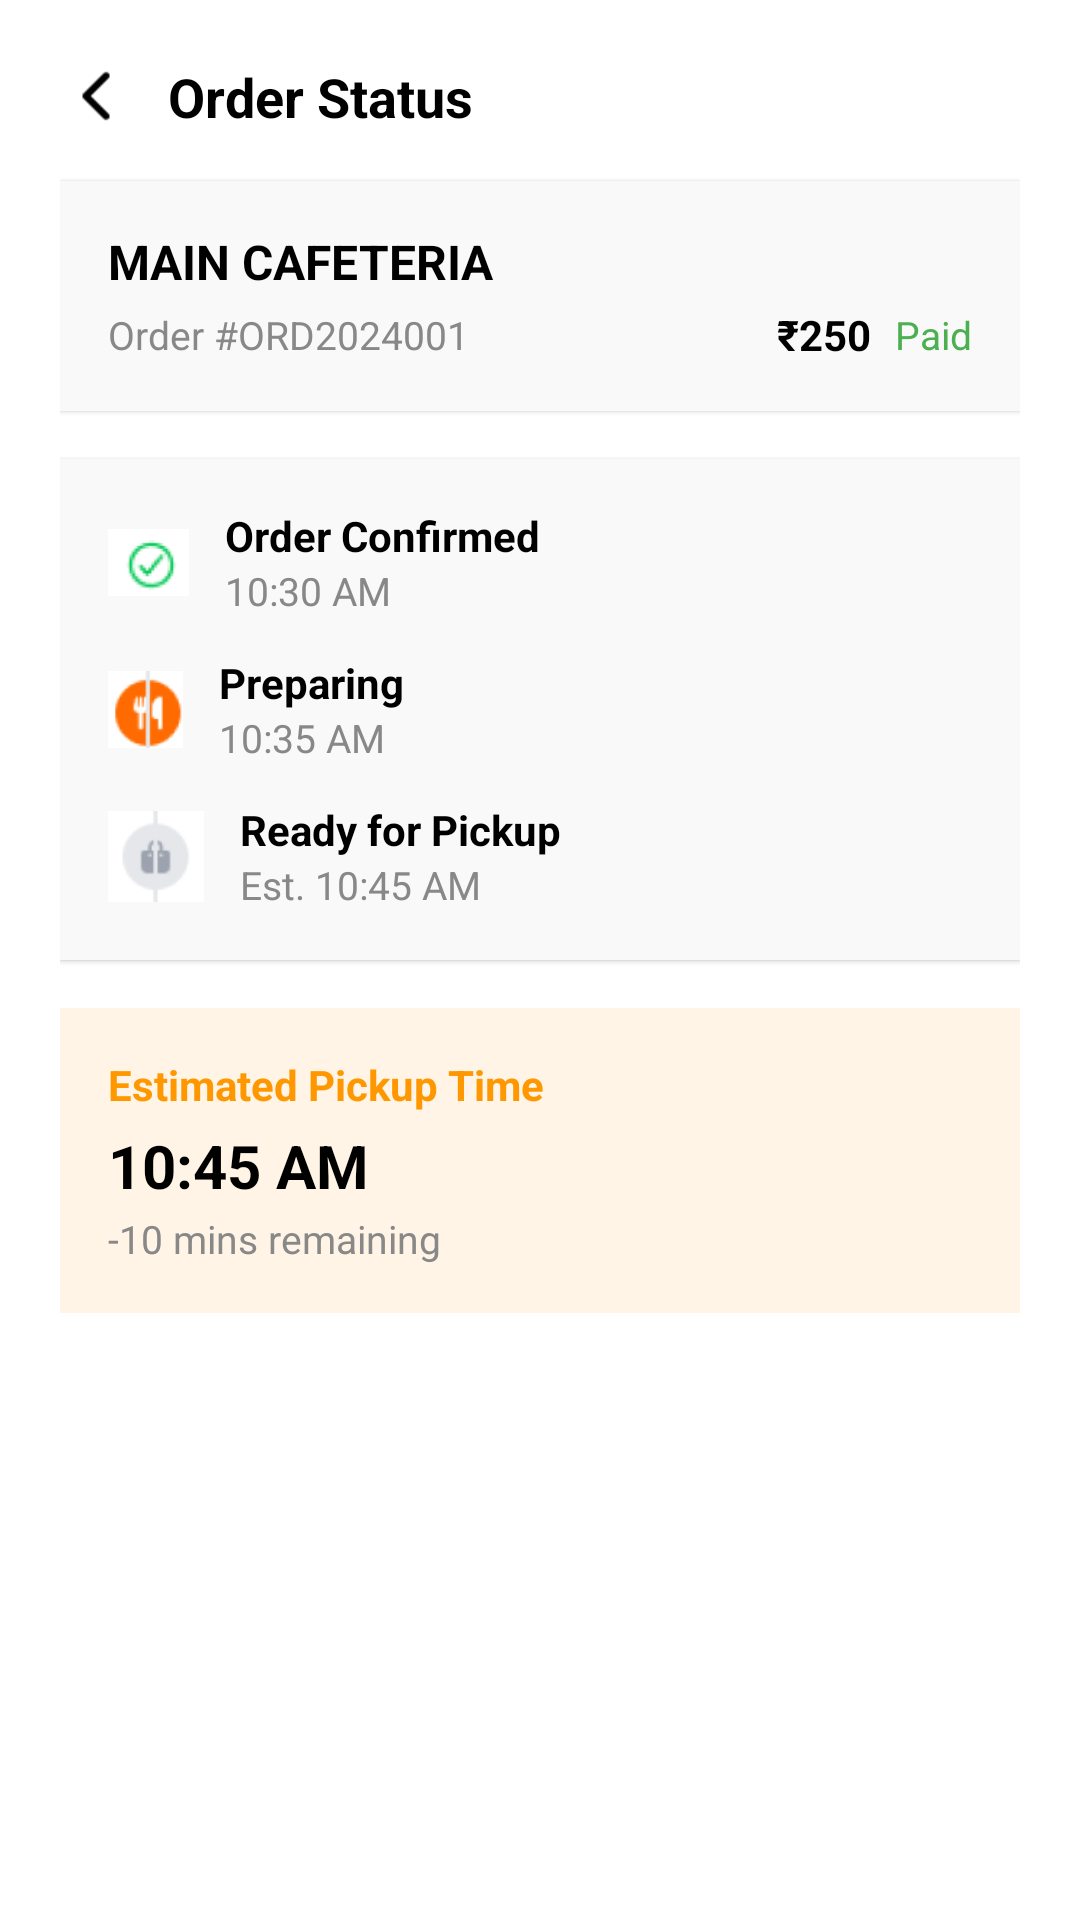

Where icons sit on this 1080px x 1920px app screen, as [left=x1, top=y1, right=x2, bottom=y2]:
check: [left=127, top=541, right=175, bottom=589]
food: [left=115, top=679, right=182, bottom=747]
